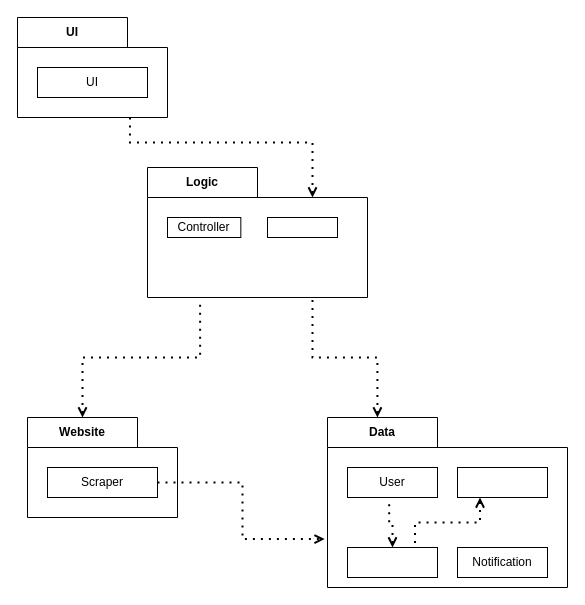
This 585x605 diagram has some shape labels left out. The centre of each missing label's shape, as x and y in pixels:
NotifPref: the point at 502,482
NotifService: the point at 302,227
Subscription: the point at 392,562
